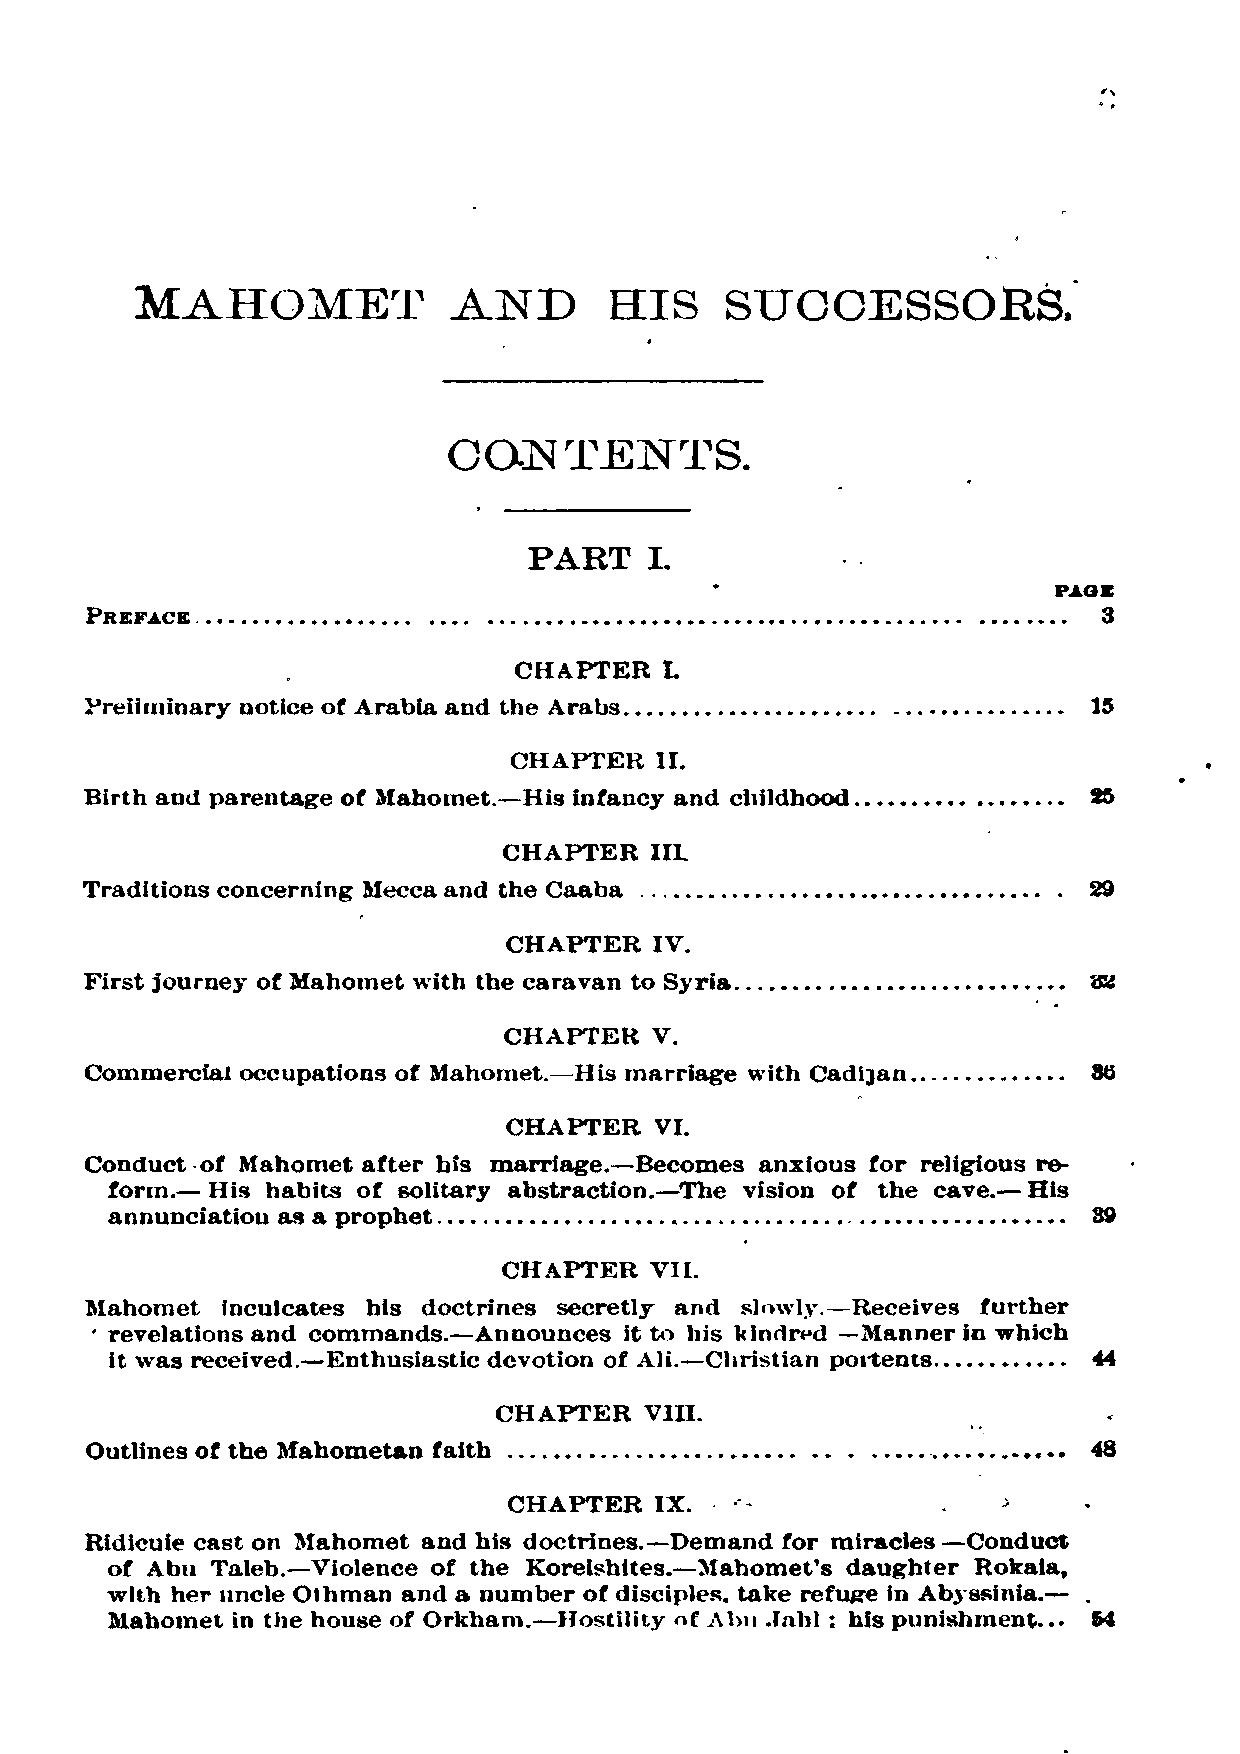TOC_chapter: (83, 1530, 1070, 1632), (81, 1150, 1071, 1231), (83, 1295, 1074, 1370), (79, 1057, 909, 1088), (81, 782, 849, 811), (78, 969, 733, 998), (79, 690, 619, 721), (81, 876, 625, 900), (81, 1435, 491, 1461), (497, 1252, 701, 1284), (502, 741, 686, 772), (499, 930, 692, 958), (491, 1402, 705, 1427), (523, 539, 671, 574), (494, 837, 691, 863), (502, 1113, 690, 1138), (505, 1491, 692, 1516), (511, 654, 680, 679), (501, 1023, 678, 1047), (83, 600, 191, 625)
TOC_pagenumber: (1053, 582, 1117, 625), (1087, 1604, 1119, 1631), (1088, 1435, 1121, 1460), (1088, 968, 1117, 993), (1087, 874, 1113, 900), (1090, 690, 1117, 714), (1088, 1200, 1117, 1223), (1091, 1060, 1119, 1082), (1090, 782, 1113, 805), (1091, 1347, 1117, 1365)
chapter: (127, 275, 1076, 323), (446, 431, 750, 475)
